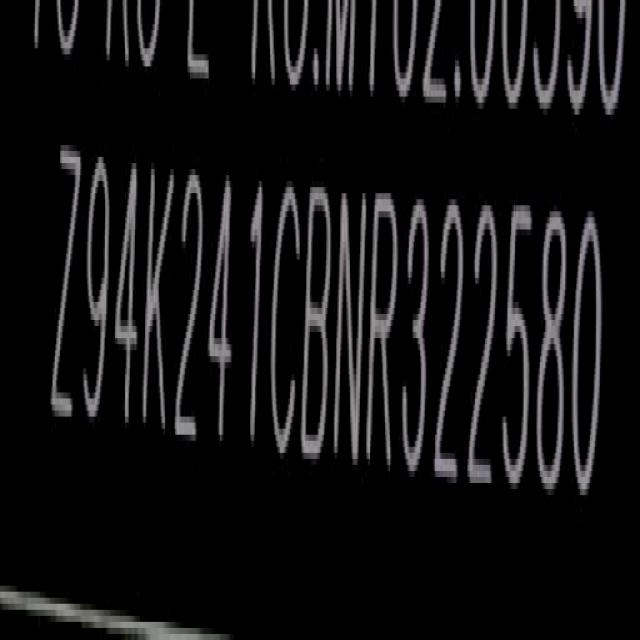0: (574, 218, 604, 503)
1: (244, 177, 262, 460)
2: (435, 197, 464, 486), (469, 201, 497, 492), (178, 172, 206, 451)
3: (404, 202, 433, 481)
4: (209, 170, 236, 455), (114, 156, 141, 434)
5: (506, 203, 534, 494)
8: (540, 207, 570, 496)
9: (85, 151, 112, 429)
B: (303, 181, 333, 463)
C: (270, 180, 300, 461)
K: (140, 161, 171, 445)
N: (336, 184, 365, 466)
R: (369, 189, 399, 469)
Z: (50, 139, 79, 430)
